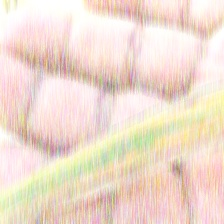Leaf_Blast: (44, 82, 221, 209)
